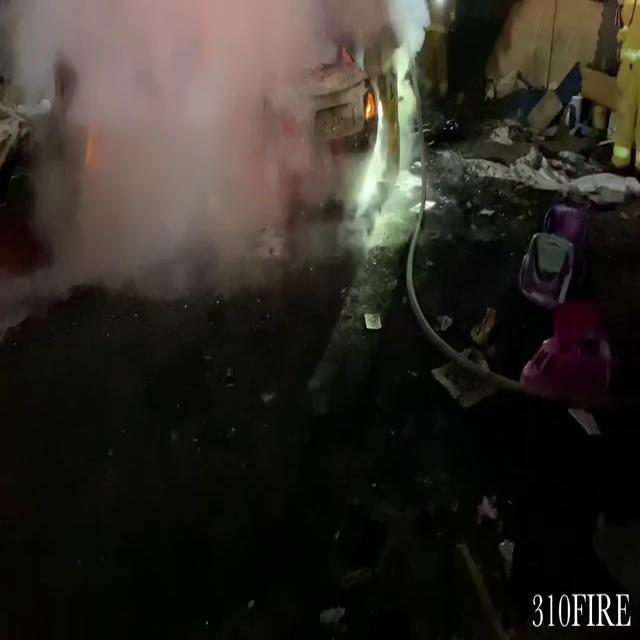Smoke: (12, 0, 374, 300)
